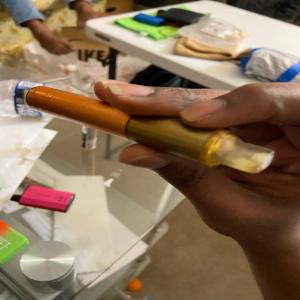Golden-E-Ciggirate: (22, 81, 280, 179)
